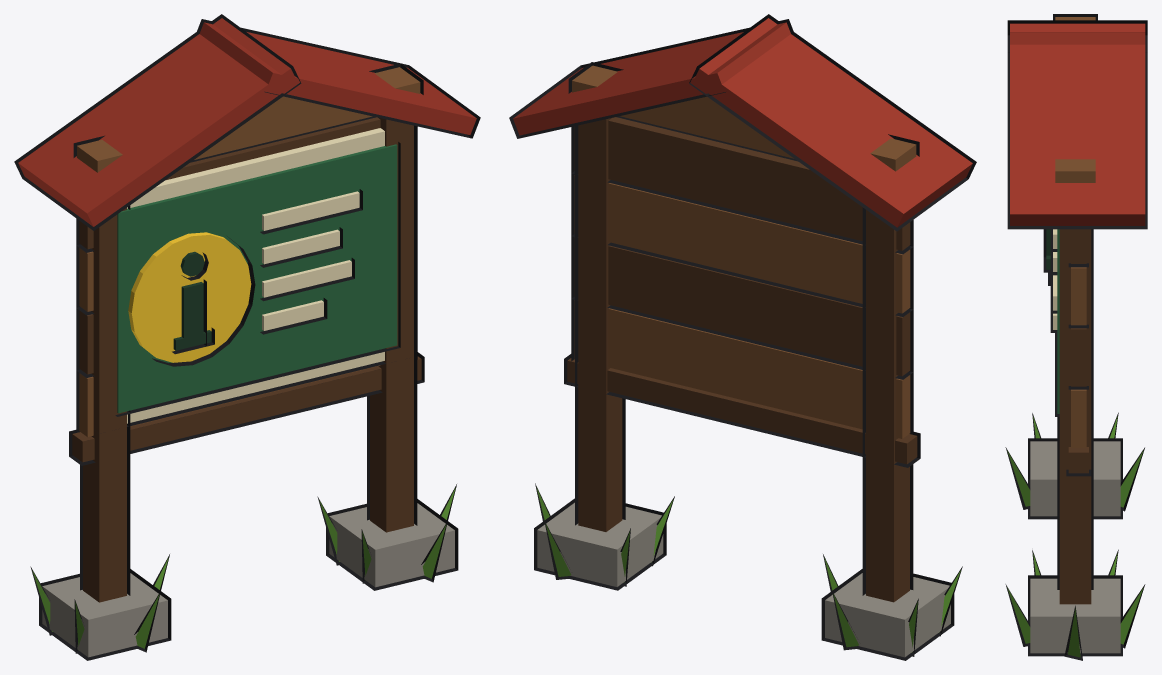
Rendered from Cartel_Tutorial.fbx.
3 views of the same model, side by side, from view 1: azimuth 30°, elevation 25°; view 2: azimuth 150°, elevation 25°; view 3: azimuth 270°, elevation 25° (orthographic). The views are drawn at different scales.
Parts seen in each view (by area): view 1: Cartel_Tutorial; view 2: Cartel_Tutorial; view 3: Cartel_Tutorial.
Part boxes in pixels (bbox=[...]): Cartel_Tutorial: bbox=[14, 14, 480, 660]; Cartel_Tutorial: bbox=[509, 14, 976, 660]; Cartel_Tutorial: bbox=[1005, 14, 1147, 660].
Bounding box in the file's own units: 2.04 × 2.68 × 0.6315.
Materials: 2 (1 with a texture image).
